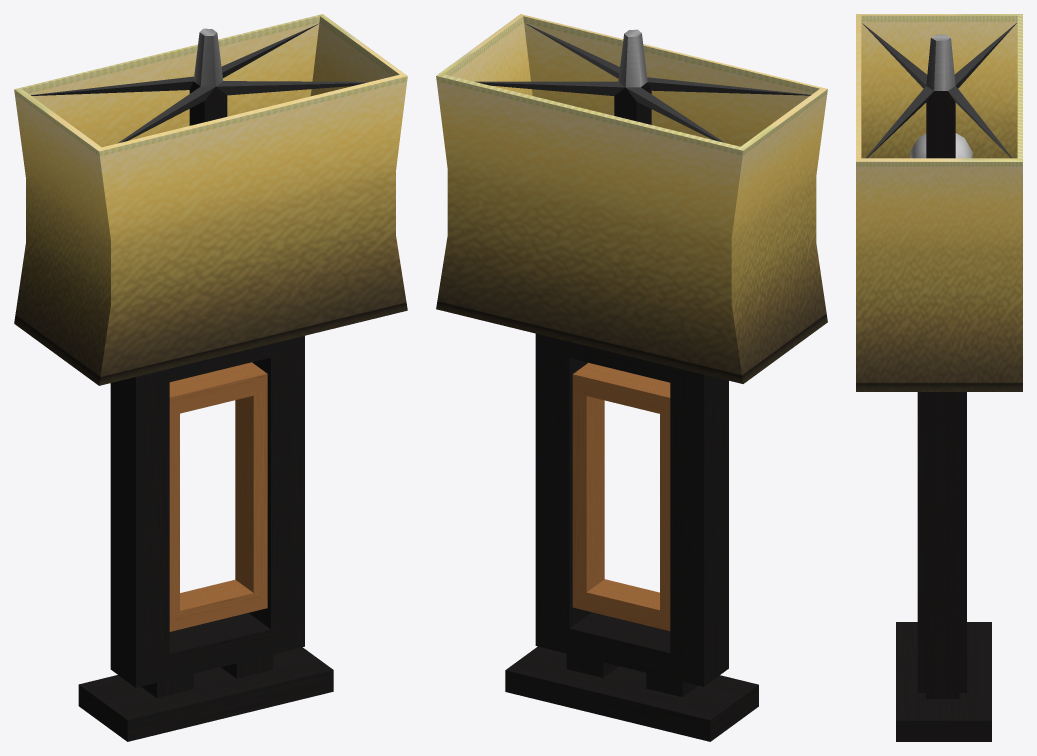
The model's file is Table_Lamp_G.FBX.
3 renders of one model, left to right at view 1: azimuth 30°, elevation 25°; view 2: azimuth 150°, elevation 25°; view 3: azimuth 270°, elevation 25°, orthographic.
Visible parts, largest first — view 1: Lamp; view 2: Lamp; view 3: Lamp.
Boxes of the visible parts, x1=… form: Lamp: x1=14, y1=14, x2=407, y2=741; Lamp: x1=436, y1=14, x2=827, y2=741; Lamp: x1=856, y1=14, x2=1022, y2=741.
Size of the model in its own units: 83.89 by 173 by 40.
